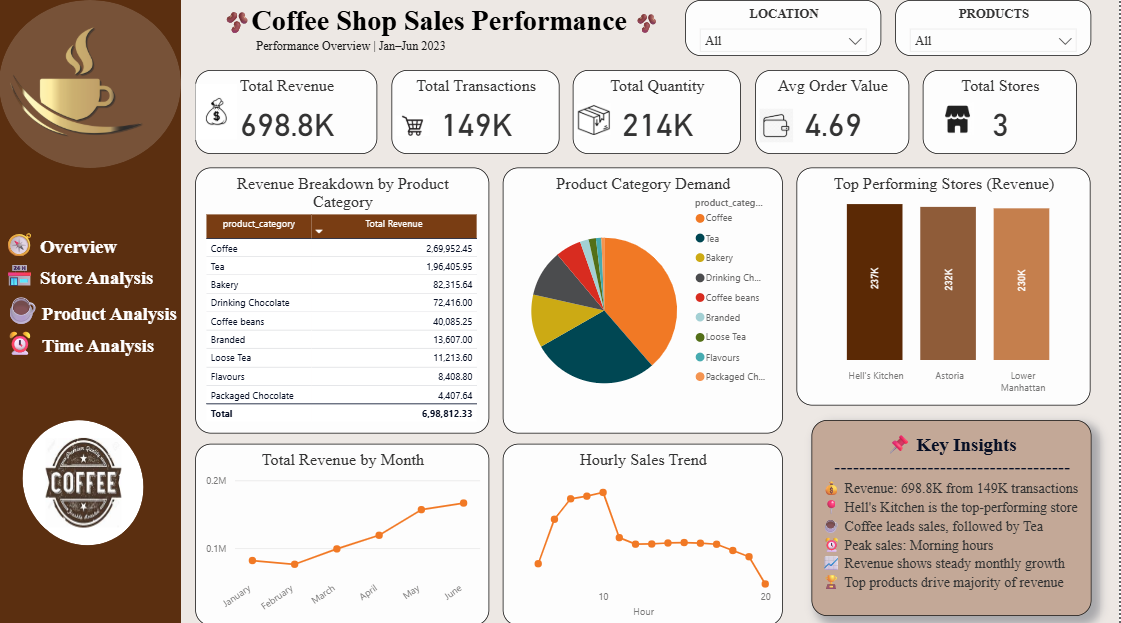

The dashboard page shown, as its layout file describes it:
{"tool":"powerbi","page":{"name":"Page 1","canvas":[1280,715],"ordinal":0},"visuals":[{"type":"shape","box":[0,-5,208,720],"z":0},{"type":"pieChart","title":"Product Category Demand","fields":{"Category":["categories.product_category"],"Y":["sales.Total Revenue"]},"box":[576,192,320,304],"z":1000},{"type":"tableEx","title":"Revenue Breakdown by Product Category","fields":{"Values":["categories.product_category","sales.Total Revenue"]},"box":[224,192,336,304],"z":2000},{"type":"lineChart","title":"Hourly Sales Trend","fields":{"Category":["transactions.Hour"],"Y":["sales.Total Sales_Revenue"]},"box":[576,507,320,208],"z":3000},{"type":"textbox","box":[208,0,560,80],"z":4000},{"type":"slicer","title":"LOCATION","fields":{"Values":["stores.store_location"]},"box":[784,0,224,64],"z":5000},{"type":"slicer","title":"PRODUCTS","fields":{"Values":["categories.product_category","products.product_type","products.product_detail"]},"box":[1024,0,224,64],"z":6000},{"type":"card","title":"Total Transactions","fields":{"Values":["categories.Total Transactions"]},"box":[448,80,192,96],"z":7000},{"type":"card","title":"Total Quantity","fields":{"Values":["transactions.Total Quantity"]},"box":[656,80,192,96],"z":8000},{"type":"card","title":"Avg Order Value","fields":{"Values":["categories.Avg Order Value"]},"box":[864,80,176,96],"z":9000},{"type":"card","title":"Total Stores ","fields":{"Values":["categories.Total Stores"]},"box":[1056,80,176,96],"z":10000},{"type":"image","box":[448,112,48,64],"z":11000},{"type":"image","box":[1072,112,48,48],"z":12000},{"type":"image","box":[656,96,48,80],"z":13000},{"type":"image","box":[864,112,48,64],"z":14000},{"type":"card","title":"Total  Revenue","fields":{"Values":["sales.Total Revenue"]},"box":[224,80,208,96],"z":15000},{"type":"image","box":[224,96,48,64],"z":16000},{"type":"image","box":[0,0,176,192],"z":17000},{"type":"shape","box":[0,0,208,192],"z":18000},{"type":"lineChart","fields":{"Category":["transactions.transaction date.Variation.Date Hierarchy.Month"],"Y":["sales.Total Revenue"]},"box":[224,507,336,208],"z":19000},{"type":"textbox","box":[0,256,224,192],"z":20000},{"type":"clusteredColumnChart","title":"Top Performing Stores (Revenue)","fields":{"Category":["stores.store_location"],"Y":["sales.Total Revenue"]},"box":[912,192,336,272],"z":21000},{"type":"textbox","box":[928,480,320,224],"z":22000},{"type":"shape","box":[0,416,192,272],"z":22250},{"type":"image","box":[48,496,96,112],"z":22501}]}

Visuals, with their boxes in screenshot pixels (x1, y1, x2, y2), scaled from the page's 1280x715 canvas onto the 1121x623 screenshot:
shape: [x1=0, y1=0, x2=182, y2=622]
"Product Category Demand" pieChart: [x1=504, y1=167, x2=785, y2=432]
"Revenue Breakdown by Product Category" tableEx: [x1=196, y1=167, x2=490, y2=432]
"Hourly Sales Trend" lineChart: [x1=504, y1=442, x2=785, y2=622]
textbox: [x1=182, y1=0, x2=673, y2=70]
"LOCATION" slicer: [x1=687, y1=0, x2=883, y2=56]
"PRODUCTS" slicer: [x1=897, y1=0, x2=1093, y2=56]
"Total Transactions" card: [x1=392, y1=70, x2=560, y2=153]
"Total Quantity" card: [x1=575, y1=70, x2=743, y2=153]
"Avg Order Value" card: [x1=757, y1=70, x2=911, y2=153]
"Total Stores " card: [x1=925, y1=70, x2=1079, y2=153]
image: [x1=392, y1=98, x2=434, y2=153]
image: [x1=939, y1=98, x2=981, y2=139]
image: [x1=575, y1=84, x2=617, y2=153]
image: [x1=757, y1=98, x2=799, y2=153]
"Total  Revenue" card: [x1=196, y1=70, x2=378, y2=153]
image: [x1=196, y1=84, x2=238, y2=139]
image: [x1=0, y1=0, x2=154, y2=167]
shape: [x1=0, y1=0, x2=182, y2=167]
lineChart - transactions.transaction date.Variation.Date Hierarchy.Month x sales.Total Revenue: [x1=196, y1=442, x2=490, y2=622]
textbox: [x1=0, y1=223, x2=196, y2=390]
"Top Performing Stores (Revenue)" clusteredColumnChart: [x1=799, y1=167, x2=1093, y2=404]
textbox: [x1=813, y1=418, x2=1093, y2=613]
shape: [x1=0, y1=362, x2=168, y2=599]
image: [x1=42, y1=432, x2=126, y2=530]
